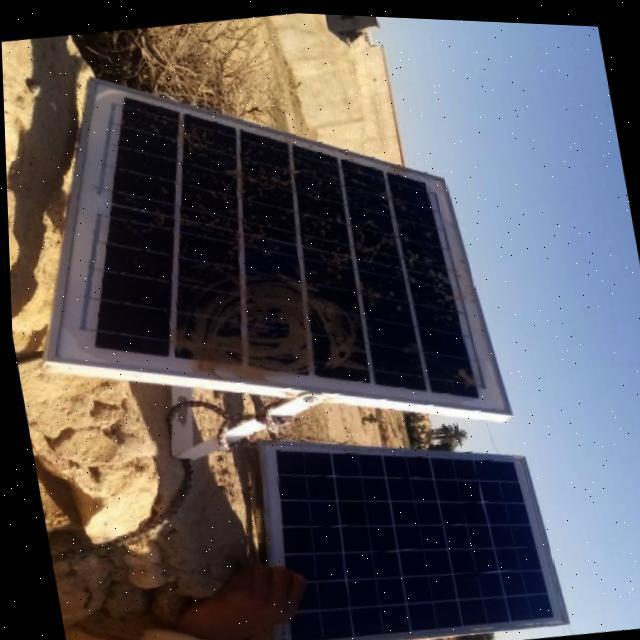Normal Solar Panel: (241, 401, 564, 640)
